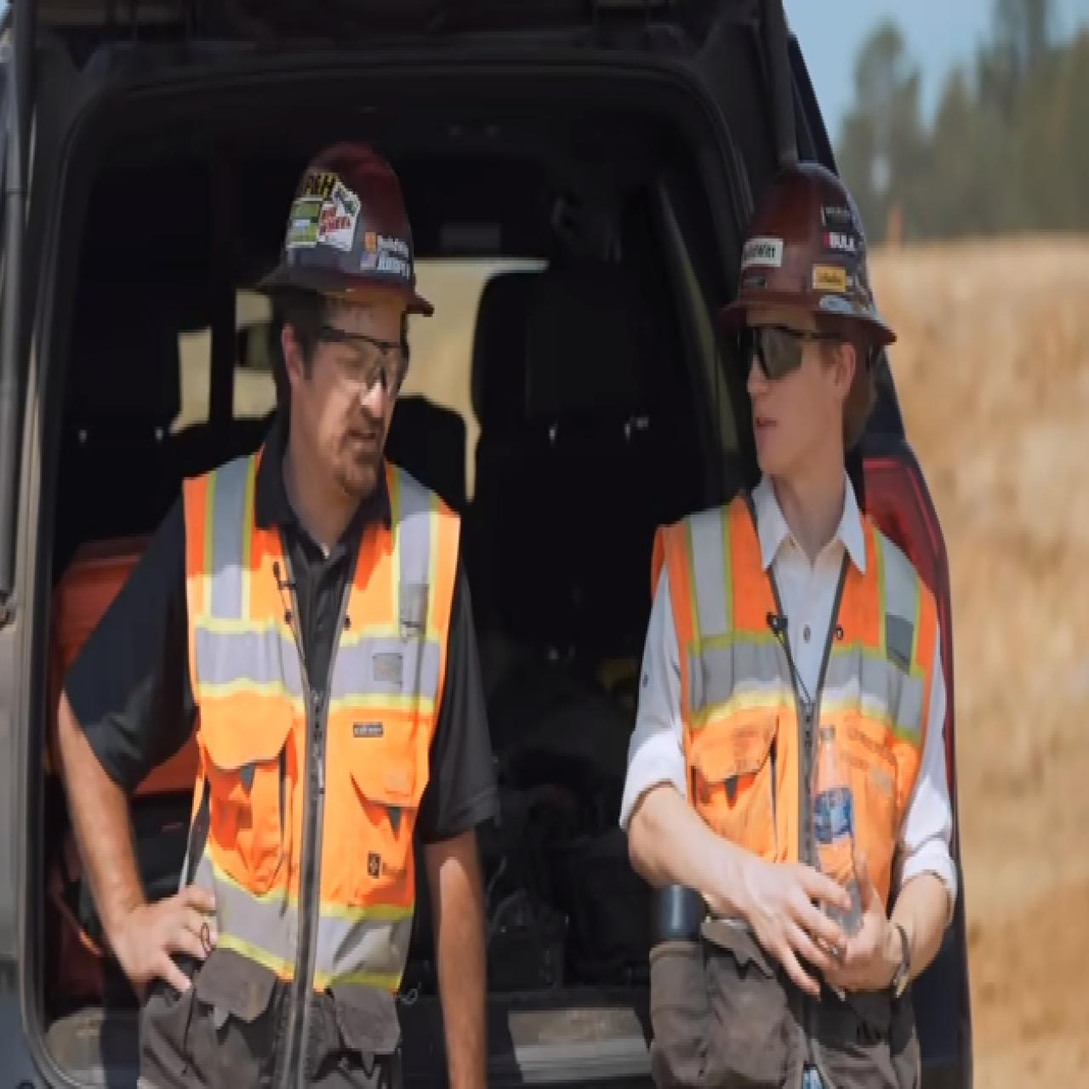Person: (54, 119, 522, 1089), (621, 125, 972, 1089)
Safety_Vest: (172, 449, 460, 1011), (648, 483, 930, 998)
